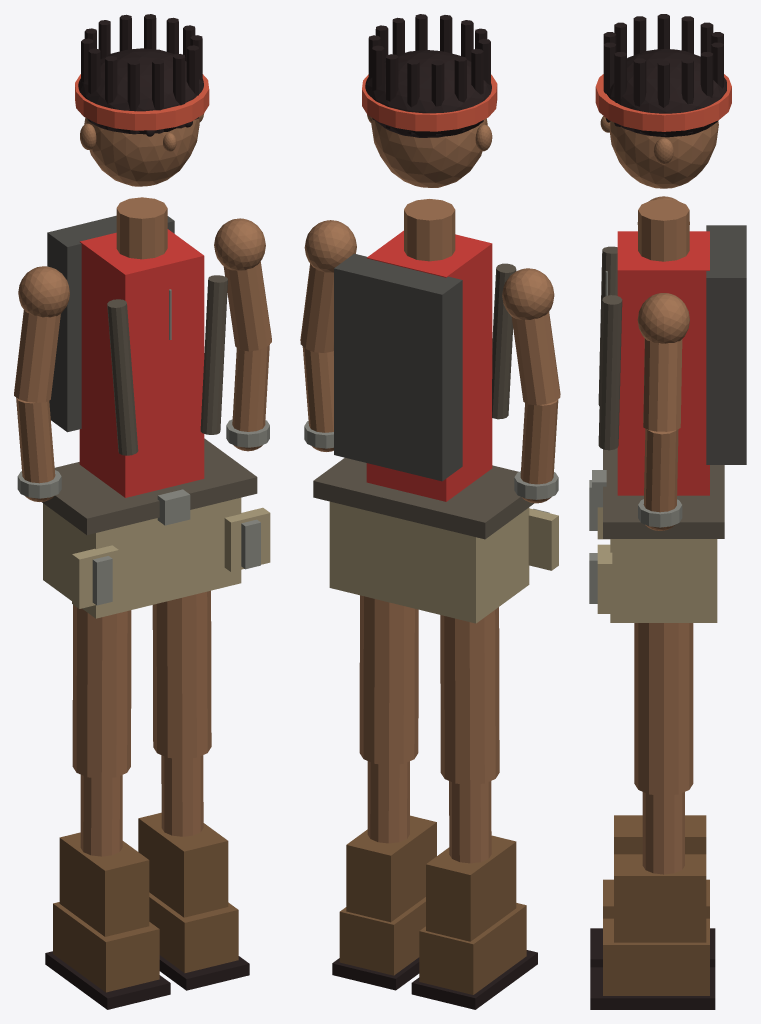
File: female_trinidadian_lowpoly.glb
3 views of the same model, side by side, from view 1: azimuth 30°, elevation 25°; view 2: azimuth 150°, elevation 25°; view 3: azimuth 270°, elevation 25° (orthographic).
Visible parts, largest first — view 1: female_shirt, female_shorts, female_leg_-1, female_leg_1, female_belt, female_ankleboot_-1, female_ankleboot_1, female_backpack, female_boot_-1, female_boot_1, female_head, female_haircap (+26 smaller); view 2: female_backpack, female_shorts, female_shirt, female_leg_-1, female_leg_1, female_belt, female_ankleboot_-1, female_ankleboot_1, female_boot_-1, female_head, female_boot_1, female_haircap (+17 smaller); view 3: female_shirt, female_leg_1, female_backpack, female_shorts, female_ankleboot_1, female_boot_1, female_belt, female_head, female_haircap, female_upperarm_1, female_shin_1, female_strap_1 (+24 smaller).
Boxes of the visible parts, x1,y1,x2,y2 form: female_shirt: (79,229,204,497); female_shorts: (43,497,241,618); female_leg_-1: (72,605,131,778); female_leg_1: (152,590,211,759); female_belt: (42,438,257,534); female_ankleboot_-1: (59,832,149,936); female_ankleboot_1: (138,812,228,917); female_backpack: (47,215,174,432); female_boot_-1: (53,902,159,992); female_boot_1: (149,892,238,972); female_head: (84,117,199,186); female_haircap: (78,48,203,134); female_backpack: (334,253,462,481); female_shorts: (329,501,529,623); female_shirt: (366,230,492,501); female_leg_-1: (440,607,499,784); female_leg_1: (359,595,418,765); female_belt: (313,457,533,539); female_ankleboot_-1: (426,835,516,941); female_ankleboot_1: (346,815,436,922); female_boot_-1: (419,903,526,994); female_head: (371,118,487,187); female_boot_1: (339,897,425,975); female_haircap: (365,50,491,137); female_shirt: (617,231,709,495); female_leg_1: (634,623,693,795); female_backpack: (706,225,746,464); female_shorts: (610,539,717,622); female_ankleboot_1: (614,854,706,942); female_boot_1: (603,918,709,995); female_belt: (603,448,724,538); female_head: (609,121,718,188); female_haircap: (606,48,726,137); female_upperarm_1: (643,338,682,431); female_shin_1: (642,792,684,874); female_strap_1: (598,295,622,450).
Size of the model in its own units: 0.4858 by 1.7 by 0.2593.
